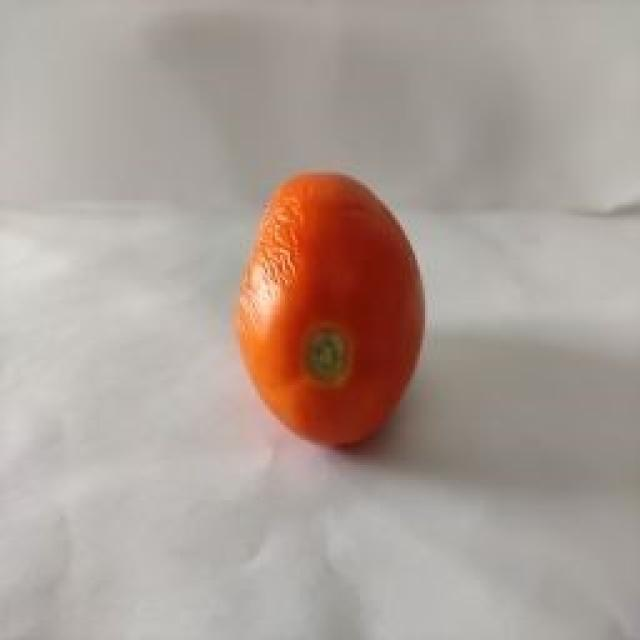Ripe: (234, 164, 427, 456)
